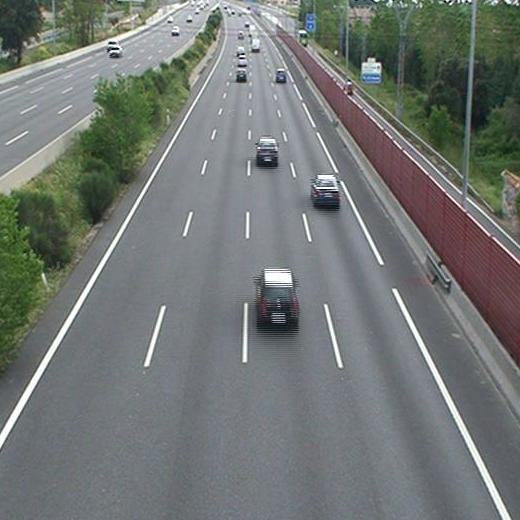car: (257, 270, 299, 321), (311, 177, 340, 206), (257, 138, 278, 161), (275, 69, 286, 80), (236, 69, 247, 79), (237, 55, 247, 65)
van: (251, 37, 260, 51)
